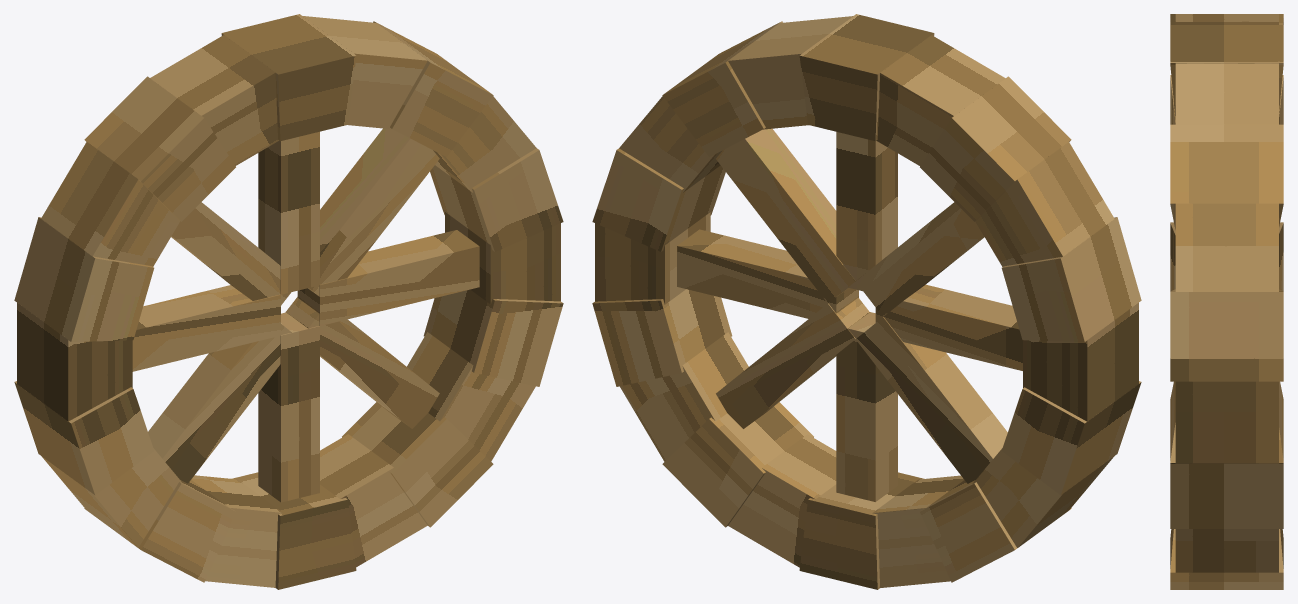
Rendered from flywheel_large.obj.
The picture shows the model from 3 angles, left to right: view 1: azimuth 30°, elevation 25°; view 2: azimuth 150°, elevation 25°; view 3: azimuth 270°, elevation 25°; orthographic projection.
Visible parts, largest first — view 1: fly_wheel; view 2: fly_wheel; view 3: fly_wheel.
Part boxes in pixels (x1=…): fly_wheel: x1=14, y1=14, x2=563, y2=589; fly_wheel: x1=592, y1=14, x2=1141, y2=589; fly_wheel: x1=1170, y1=14, x2=1283, y2=589.
Bounding box in the file's own units: 2.68 × 2.68 × 0.5359.
